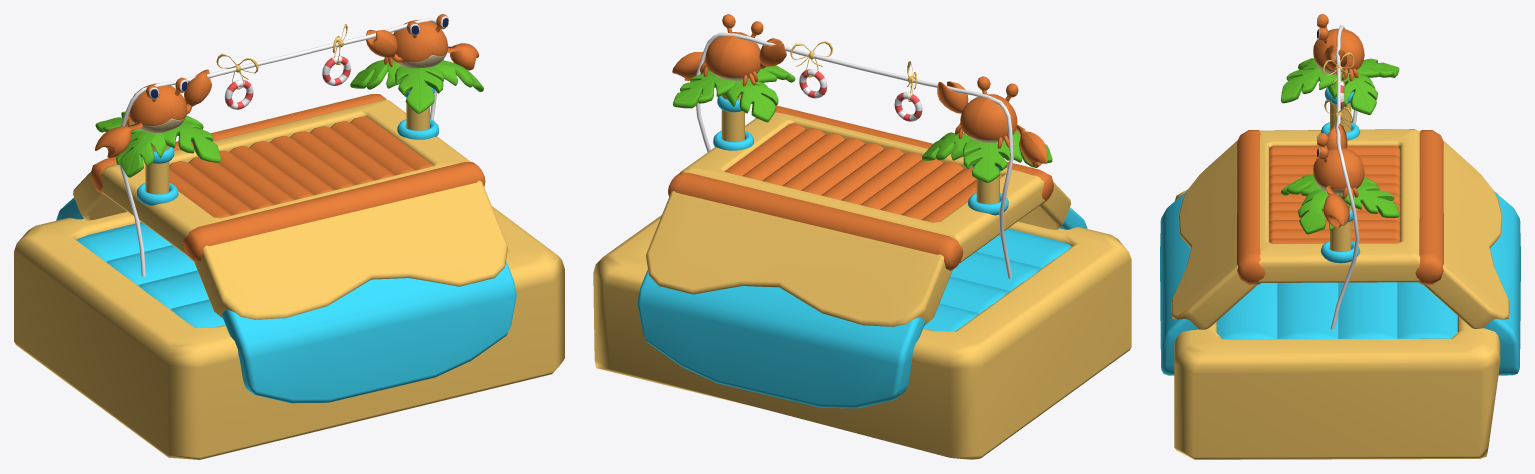
Rendered from ganchosTest1.fbx.
3 renders of one model, left to right at view 1: azimuth 30°, elevation 25°; view 2: azimuth 150°, elevation 25°; view 3: azimuth 270°, elevation 25°, orthographic. The views are drawn at different scales.
Visible parts, largest first — view 1: hookZone1_up, hookZone1_down, hookZone1_palmTree, hookZone1_cr4bs, hookZone1_rope; view 2: hookZone1_up, hookZone1_down, hookZone1_palmTree, hookZone1_cr4bs, hookZone1_rope; view 3: hookZone1_down, hookZone1_up, hookZone1_palmTree, hookZone1_cr4bs, hookZone1_rope.
Boxes of the visible parts, x1=… form: hookZone1_up: x1=56, y1=94, x2=516, y2=403; hookZone1_down: x1=14, y1=206, x2=564, y2=459; hookZone1_palmTree: x1=95, y1=59, x2=483, y2=205; hookZone1_cr4bs: x1=95, y1=14, x2=478, y2=157; hookZone1_rope: x1=120, y1=18, x2=444, y2=276; hookZone1_up: x1=637, y1=106, x2=1087, y2=408; hookZone1_down: x1=593, y1=215, x2=1131, y2=459; hookZone1_palmTree: x1=673, y1=65, x2=1052, y2=215; hookZone1_cr4bs: x1=672, y1=14, x2=1047, y2=166; hookZone1_rope: x1=695, y1=32, x2=1013, y2=278; hookZone1_down: x1=1174, y1=189, x2=1500, y2=459; hookZone1_up: x1=1160, y1=129, x2=1520, y2=375; hookZone1_palmTree: x1=1281, y1=58, x2=1399, y2=263; hookZone1_cr4bs: x1=1313, y1=14, x2=1364, y2=228; hookZone1_rope: x1=1322, y1=25, x2=1359, y2=329.
Bounding box in the file's own units: 1850 × 1388 × 1559.
